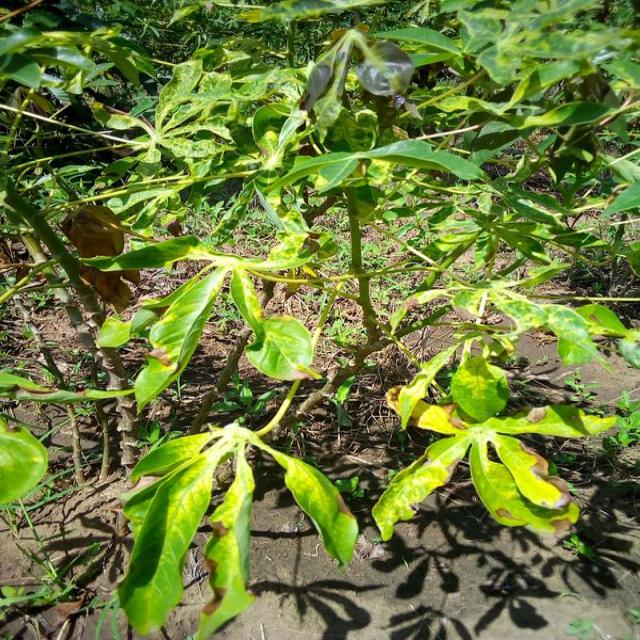cassava leaf: (117, 418, 358, 637), (370, 344, 617, 543), (0, 419, 48, 506)
